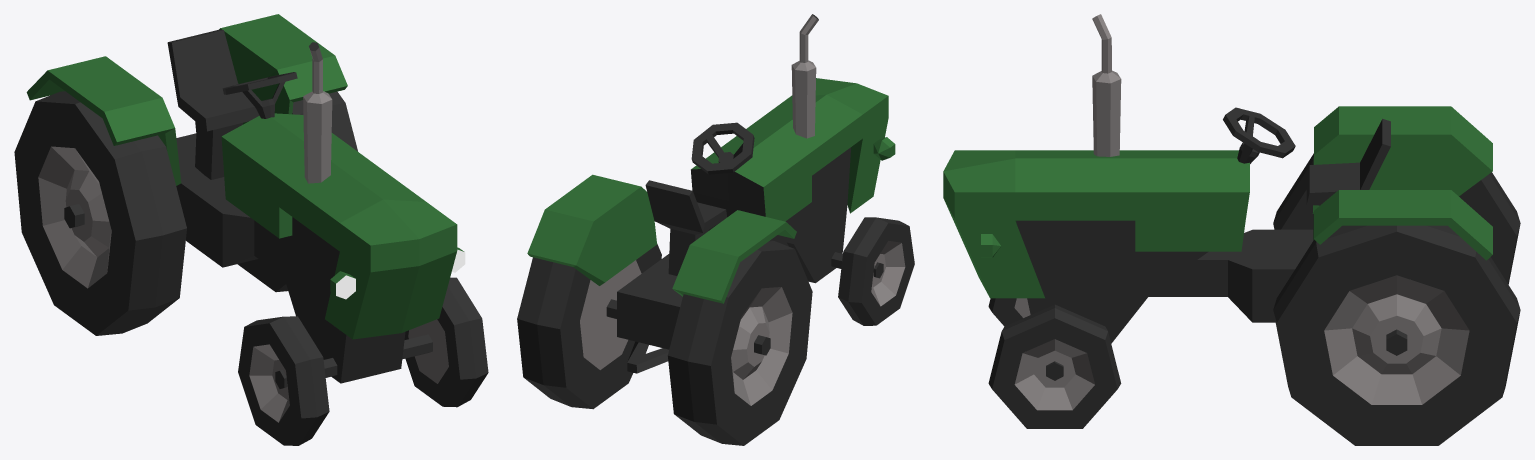
File: tractor_one.glb
The picture shows the model from 3 angles, left to right: view 1: azimuth 30°, elevation 25°; view 2: azimuth 150°, elevation 25°; view 3: azimuth 270°, elevation 25°; orthographic projection. The views are drawn at different scales.
Visible parts, largest first — view 1: tractor-base.001, tractor-wheel_BR.001, tractor-wheel.001, tractor-wheel_FL.001, tractor-wheel_BL.001; view 2: tractor-base.001, tractor-wheel_BR.001, tractor-wheel_BL.001, tractor-wheel.001; view 3: tractor-base.001, tractor-wheel_BL.001, tractor-wheel_FL.001, tractor-wheel_BR.001, tractor-wheel.001.
Boxes of the visible parts, x1=… form: tractor-base.001: x1=26, y1=14, x2=465, y2=388; tractor-wheel_BR.001: x1=14, y1=91, x2=186, y2=335; tractor-wheel.001: x1=238, y1=316, x2=329, y2=445; tractor-wheel_FL.001: x1=404, y1=277, x2=488, y2=407; tractor-wheel_BL.001: x1=195, y1=91, x2=357, y2=292; tractor-base.001: x1=527, y1=14, x2=895, y2=373; tractor-wheel_BR.001: x1=667, y1=240, x2=812, y2=445; tractor-wheel_BL.001: x1=517, y1=243, x2=661, y2=409; tractor-wheel.001: x1=838, y1=217, x2=914, y2=325; tractor-base.001: x1=943, y1=14, x2=1492, y2=380; tractor-wheel_BL.001: x1=1273, y1=225, x2=1520, y2=445; tractor-wheel_FL.001: x1=988, y1=304, x2=1121, y2=428; tractor-wheel_BR.001: x1=1273, y1=153, x2=1520, y2=284; tractor-wheel.001: x1=988, y1=298, x2=1030, y2=326.
Bounding box in the file's own units: 1.62 × 2.37 × 3.38.
